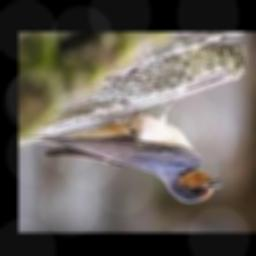Swallow: (37, 99, 223, 202)
